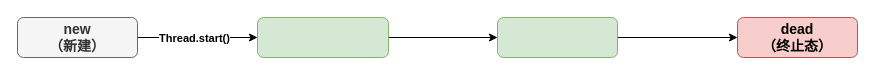
This 875x75 diagram has some shape labels left out. Each missing label, with the centre of its shape:
"runnable （就绪状态）" belongs at point 322,37.
"running （运行状态）" belongs at point 557,37.
